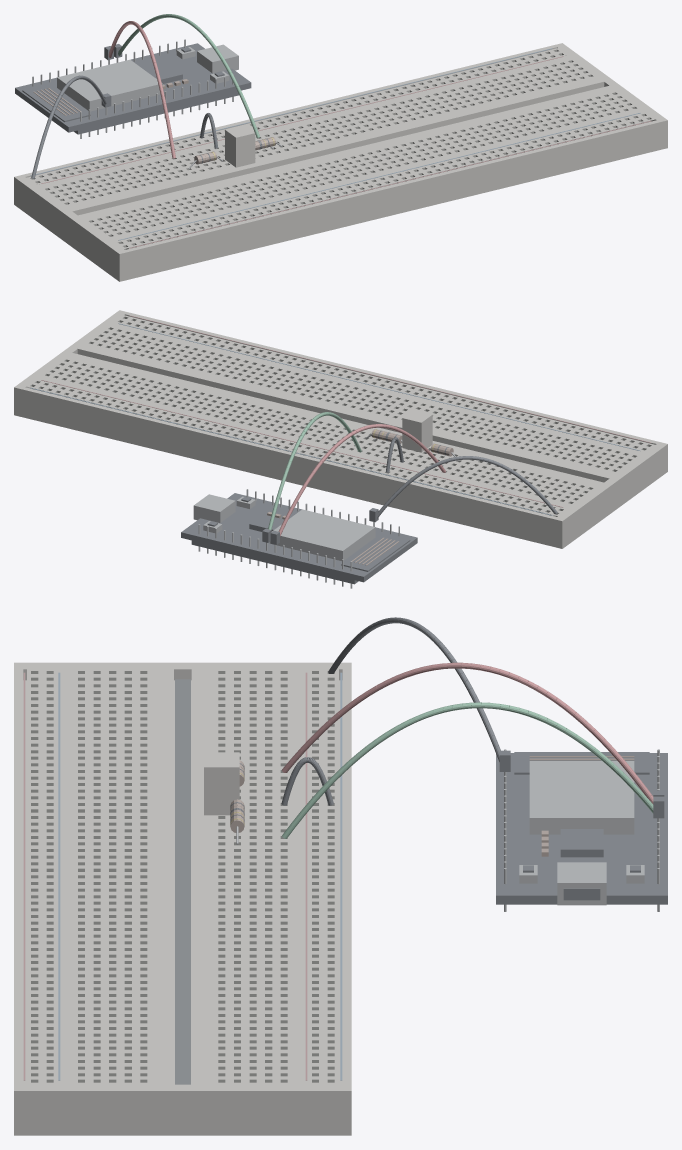
Rendered from step-8.glb.
3 views of the same model, one above another, from view 1: azimuth 30°, elevation 25°; view 2: azimuth 150°, elevation 25°; view 3: azimuth 270°, elevation 25° (orthographic). The views are drawn at different scales.
Parts seen in each view (by area): view 1: breadboard__mesh, arduino__mesh, rgb_led__mesh, wire_green__mesh, wire_red__mesh, wire_gnd_rail__mesh; view 2: breadboard__mesh, arduino__mesh, wire_red__mesh, rgb_led__mesh, wire_gnd_rail__mesh, wire_green__mesh; view 3: breadboard__mesh, arduino__mesh, wire_green__mesh, wire_red__mesh, rgb_led__mesh, wire_gnd_rail__mesh.
Part boxes in pixels (box(x1,y1,x2,y2)): breadboard__mesh: box(14, 43, 667, 281); arduino__mesh: box(15, 39, 251, 138); rgb_led__mesh: box(225, 125, 255, 167); wire_green__mesh: box(114, 14, 259, 138); wire_red__mesh: box(104, 21, 175, 158); wire_gnd_rail__mesh: box(31, 75, 111, 178); breadboard__mesh: box(14, 310, 667, 548); arduino__mesh: box(181, 489, 417, 588); wire_red__mesh: box(270, 424, 445, 544); rgb_led__mesh: box(402, 410, 432, 452); wire_gnd_rail__mesh: box(369, 456, 557, 522); wire_green__mesh: box(262, 412, 361, 542); breadboard__mesh: box(14, 662, 351, 1135); arduino__mesh: box(496, 749, 667, 911); wire_green__mesh: box(282, 702, 664, 838); wire_red__mesh: box(282, 662, 664, 804); rgb_led__mesh: box(204, 752, 239, 815); wire_gnd_rail__mesh: box(328, 617, 510, 771).
Bounding box in the file's own units: 0.165 × 0.031 × 0.1065.
